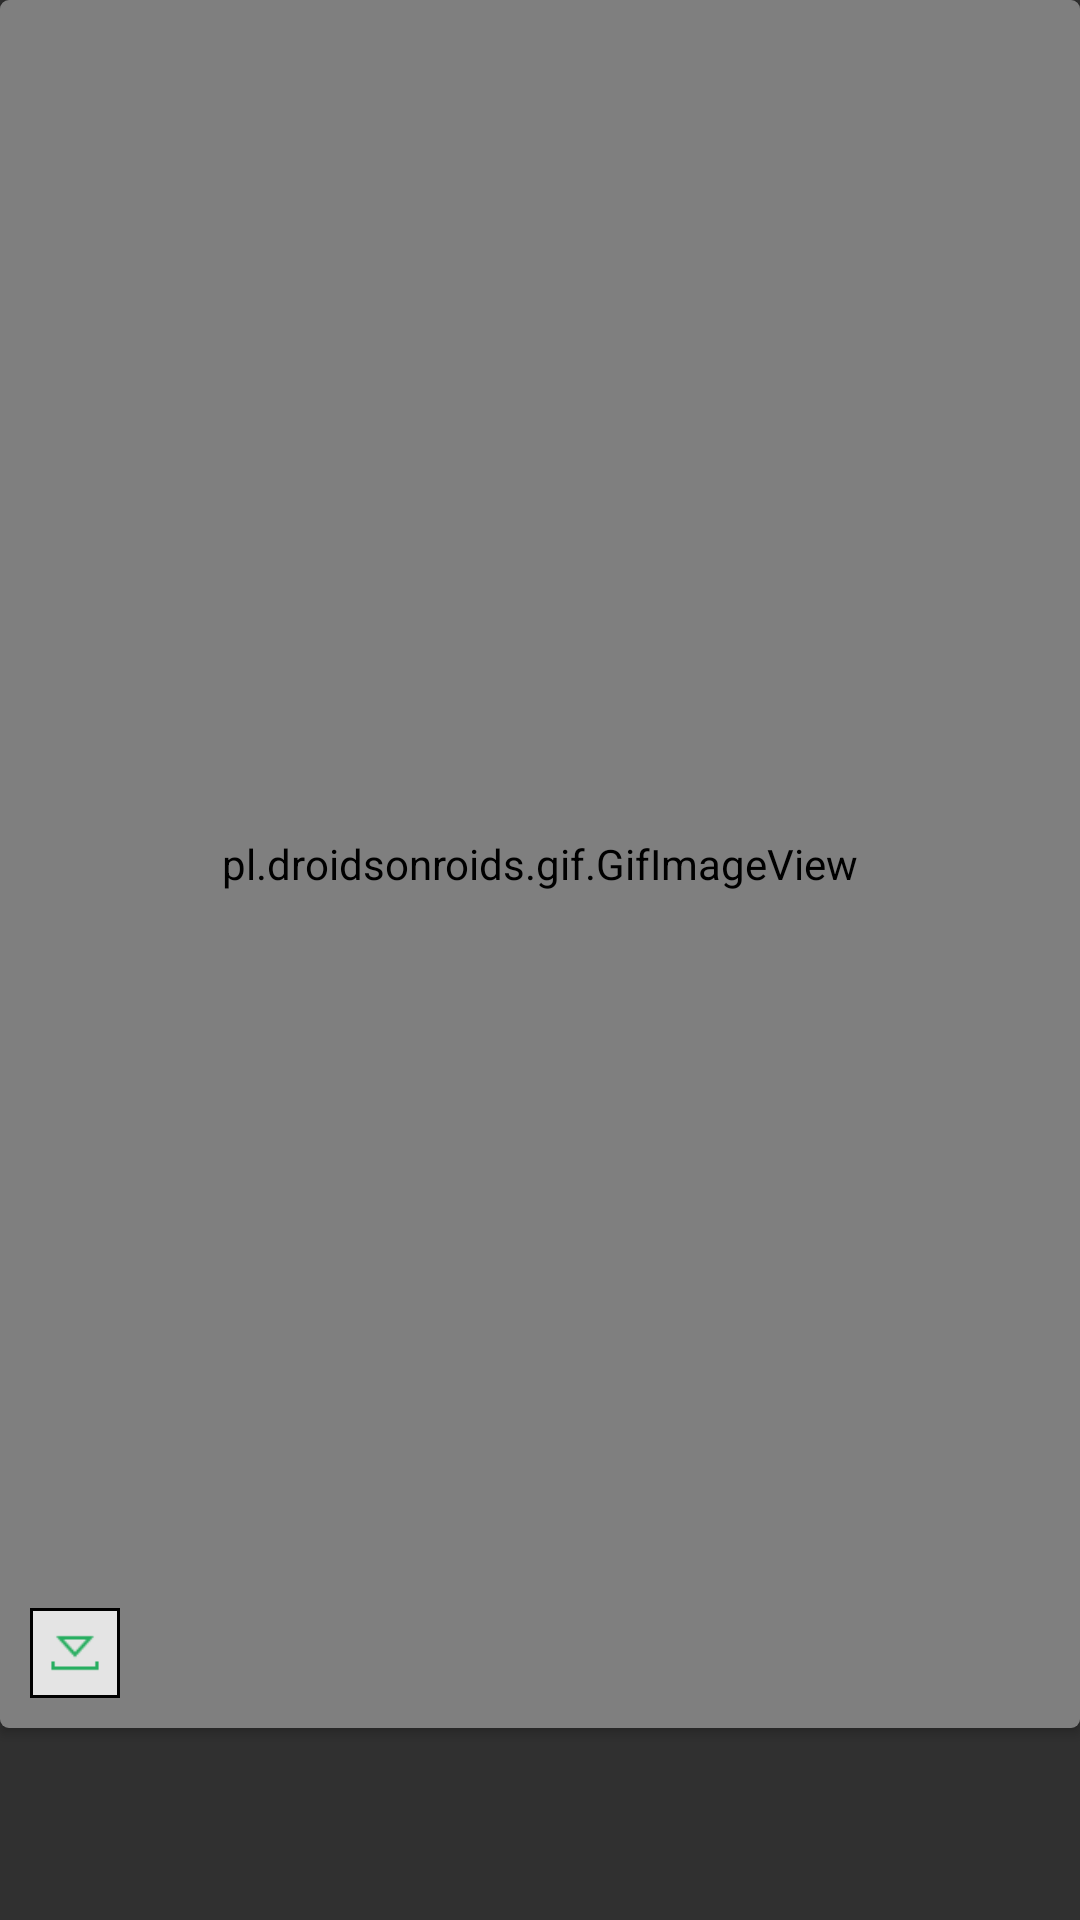

Named icons in this screenshot (1080×1920) and their centers, [x,y]:
download: [75,1653]
